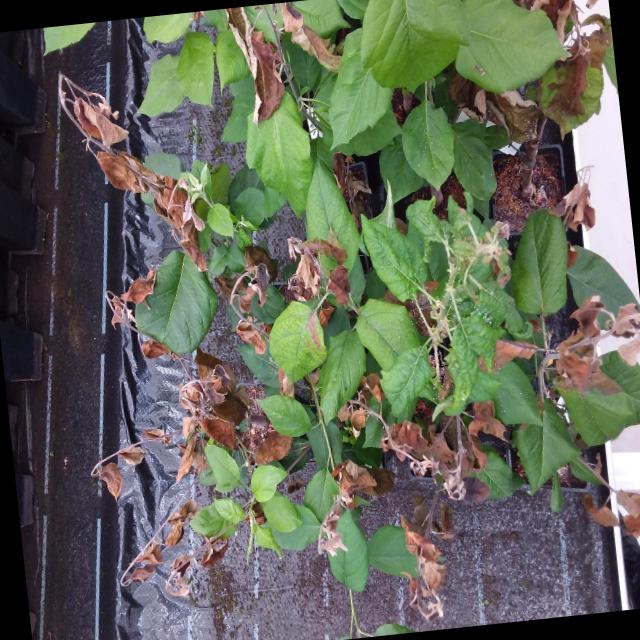-FireBlight-: (60, 74, 208, 269), (90, 340, 238, 502), (337, 373, 511, 503), (474, 297, 640, 415), (117, 494, 207, 592), (316, 457, 398, 556), (213, 243, 280, 355), (399, 495, 456, 621), (226, 10, 284, 126), (449, 73, 538, 142), (576, 451, 640, 538), (286, 230, 350, 305), (162, 526, 229, 597), (245, 379, 294, 475), (280, 5, 343, 73), (510, 0, 592, 52), (547, 167, 598, 233), (103, 267, 156, 330), (332, 151, 371, 222), (243, 505, 268, 528)
